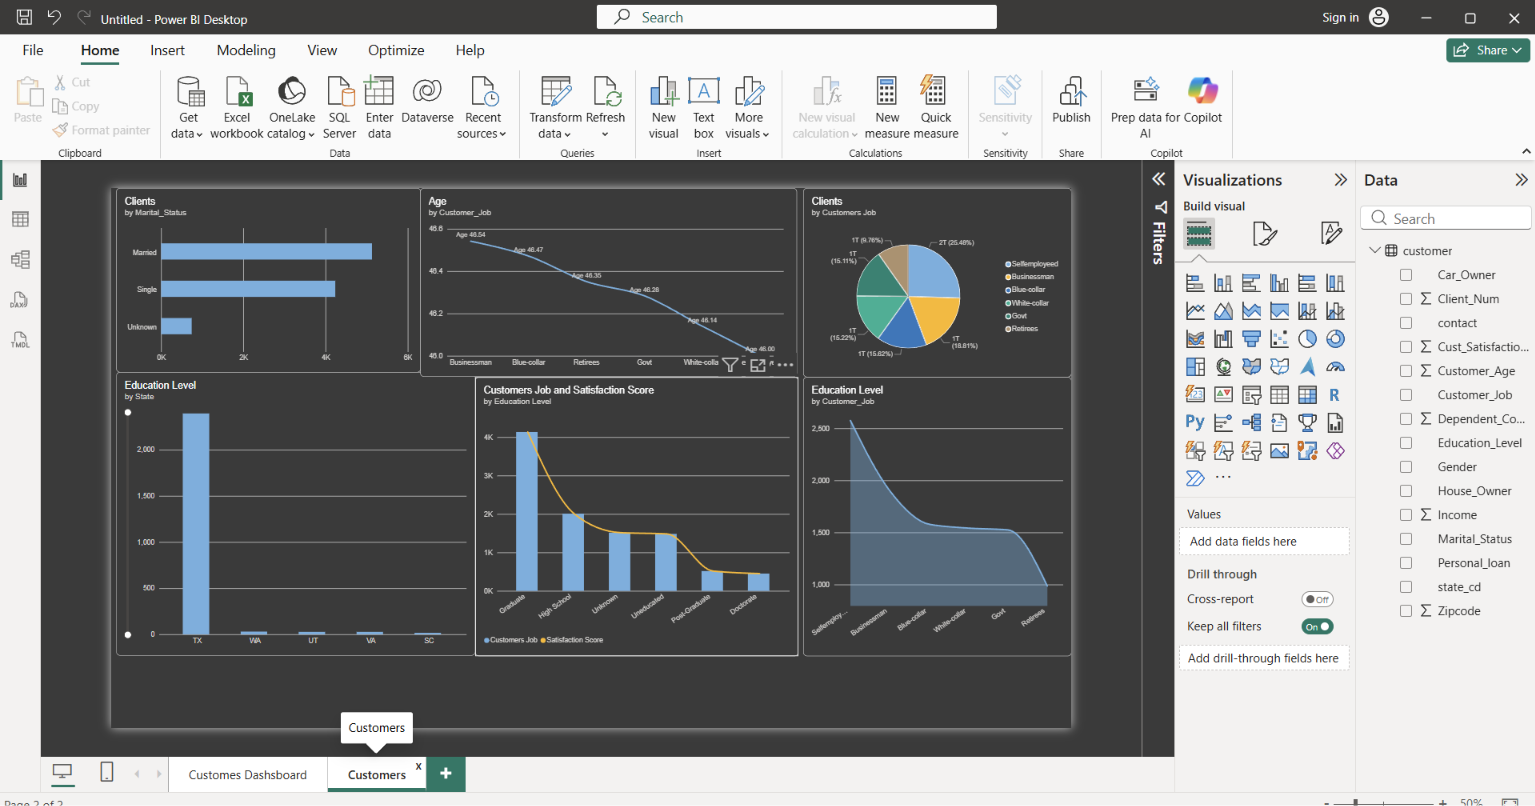

The dashboard page shown, as its layout file describes it:
{"tool":"powerbi","page":{"name":"Page 2","canvas":[1920,1080],"ordinal":1},"visuals":[{"type":"clusteredBarChart","fields":{"Category":["customer.Marital_Status"],"Y":["CountNonNull(customer.Client_Num)"]},"box":[9.4,0,609.5,368.5],"z":0},{"type":"clusteredColumnChart","fields":{"Y":["CountNonNull(customer.Education_Level)"],"Category":["customer.state_cd"]},"box":[9.4,368.5,718.1,566.9],"z":1000},{"type":"lineChart","fields":{"Category":["customer.Customer_Job"],"Y":["Avg(customer.Customer_Age)"]},"box":[618.9,0,753.5,378],"z":2000},{"type":"lineStackedColumnComboChart","fields":{"Category":["customer.Education_Level"],"Y":["CountNonNull(customer.Customer_Job)"],"Y2":["CountNonNull(customer.Cust_Satisfaction_Score)"]},"box":[727,378,646,558],"z":3000},{"type":"pieChart","fields":{"Category":["customer.Customer_Job"],"Y":["Sum(customer.Client_Num)"]},"box":[1383,0,537,378],"z":4000},{"type":"stackedAreaChart","fields":{"Category":["customer.Customer_Job"],"Y":["CountNonNull(customer.Education_Level)"]},"box":[1383,378,537,558],"z":5000}]}

Visuals, with their boxes on the page's 1920x1080 design canvas (x1, y1, x2, y2). These are canvas units, not pixel positions in the 1535x806 screenshot, which may show the page scaled, cropped or inside an application window:
clusteredBarChart - customer.Marital_Status x CountNonNull(customer.Client_Num): pyautogui.locateOnScreen(9, 0, 619, 368)
clusteredColumnChart - CountNonNull(customer.Education_Level) x customer.state_cd: pyautogui.locateOnScreen(9, 368, 728, 935)
lineChart - customer.Customer_Job x Avg(customer.Customer_Age): pyautogui.locateOnScreen(619, 0, 1372, 378)
lineStackedColumnComboChart - customer.Education_Level x CountNonNull(customer.Customer_Job): pyautogui.locateOnScreen(727, 378, 1373, 936)
pieChart - customer.Customer_Job x Sum(customer.Client_Num): pyautogui.locateOnScreen(1383, 0, 1920, 378)
stackedAreaChart - customer.Customer_Job x CountNonNull(customer.Education_Level): pyautogui.locateOnScreen(1383, 378, 1920, 936)
